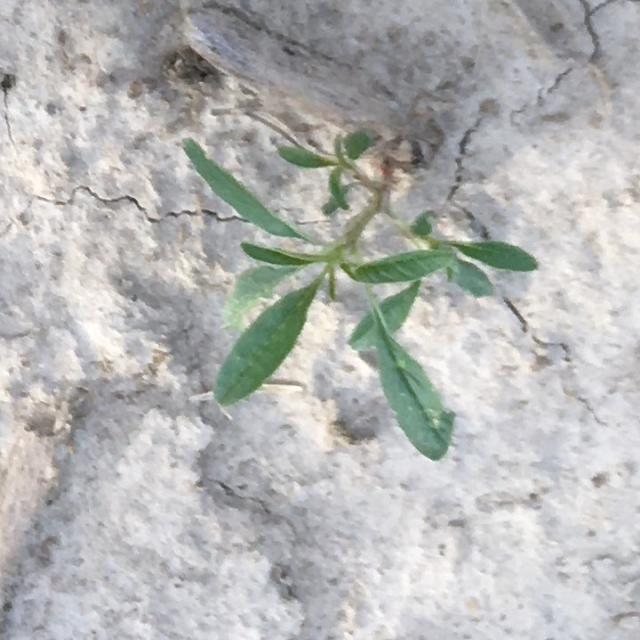Waterhemp: (180, 128, 542, 462)
